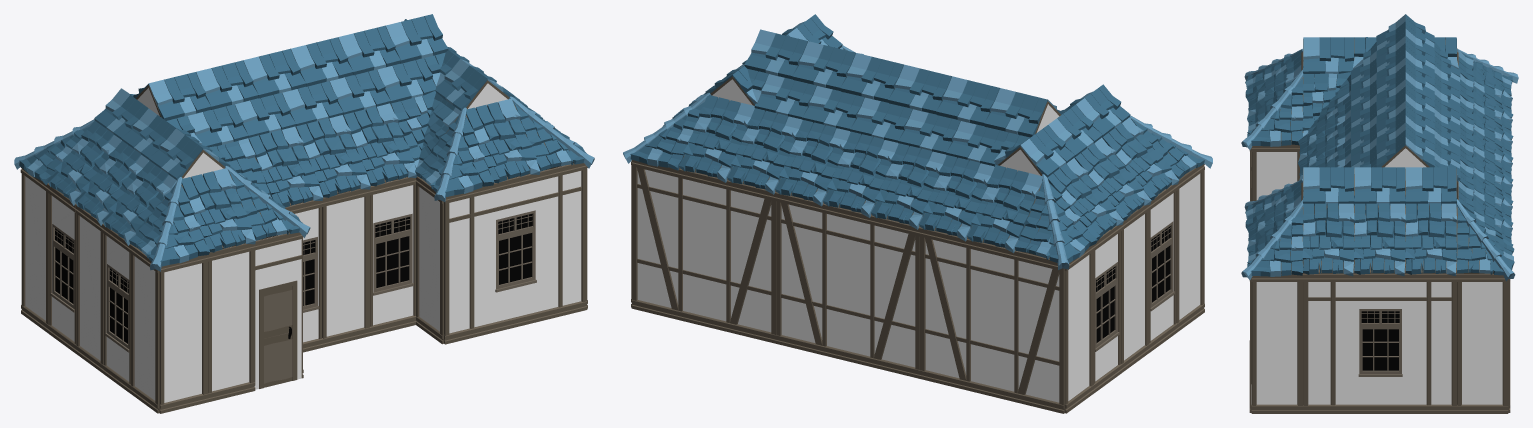
The model's file is House_09_full.glb.
The picture shows the model from 3 angles, left to right: view 1: azimuth 30°, elevation 25°; view 2: azimuth 150°, elevation 25°; view 3: azimuth 270°, elevation 25°; orthographic projection. The views are drawn at different scales.
Parts seen in each view (by area): view 1: WINDOW_03_2, WALL_03_4, WALL_03_6, WALL_03_3, DOOR_01_3, WINDOW_04_4, WALL_03_7, WALL_03_9, WINDOW_04_6, WALL_03_8, WALL_03_10, WINDOW_04_5 (+32 smaller); view 2: WALL_02_4, WALL_02_2, WALL_02_3, WALL_03_9, WALL_03_8, WALL_03_7, WINDOW_04_5, WINDOW_04_6, ROOF_base_20, ROOF_base_14, ROOF_corner_out_6, ROOF_base_15 (+26 smaller); view 3: WINDOW_03_3, WALL_03_12, WALL_03_11, ROOF_base_11, ROOF_base_12, ROOF_base_13, ROOF_corner_out_5, ROOF_corner_out_7, ROOF_corner_out_3, WALL_03_5, ROOF_inner_corner_3, ROOF_base_small_15 (+45 smaller).
Boxes of the visible parts, box(x1,y1,x2,y2) form: WINDOW_03_2: box(444, 163, 587, 344); WALL_03_4: box(159, 255, 207, 413); WALL_03_6: box(322, 188, 370, 347); WALL_03_3: box(207, 243, 255, 402); DOOR_01_3: box(254, 232, 302, 389); WINDOW_04_4: box(369, 177, 416, 335); WALL_03_7: box(130, 244, 159, 413); WALL_03_9: box(20, 167, 49, 332); WINDOW_04_6: box(48, 184, 76, 353); WALL_03_8: box(75, 204, 103, 373); WALL_03_10: box(416, 176, 443, 344); WINDOW_04_5: box(102, 224, 131, 393); WALL_02_4: box(919, 227, 1064, 413); WALL_02_2: box(631, 160, 776, 343); WALL_02_3: box(775, 192, 920, 378); WALL_03_9: box(1064, 245, 1094, 413); WALL_03_8: box(1121, 204, 1149, 372); WALL_03_7: box(1176, 164, 1204, 332); WINDOW_04_5: box(1148, 184, 1177, 352); WINDOW_04_6: box(1093, 225, 1121, 392); ROOF_base_20: box(967, 165, 1042, 253); ROOF_base_14: box(679, 95, 754, 182); ROOF_corner_out_6: box(1015, 174, 1097, 269); ROOF_base_15: box(727, 108, 802, 194); WINDOW_03_3: box(1303, 273, 1456, 413); WALL_03_12: box(1457, 273, 1508, 413); WALL_03_11: box(1251, 274, 1302, 413); ROOF_base_11: box(1302, 202, 1354, 276); ROOF_base_12: box(1354, 203, 1405, 276); ROOF_base_13: box(1405, 203, 1456, 276); ROOF_corner_out_5: box(1241, 199, 1303, 279); ROOF_corner_out_7: box(1456, 199, 1515, 281); ROOF_corner_out_3: box(1241, 69, 1303, 149); WALL_03_5: box(1251, 144, 1299, 201); ROOF_inner_corner_3: box(1302, 72, 1351, 136); ROOF_base_small_15: box(1354, 167, 1405, 205).
Size of the model in its own units: 9.41 by 5.09 by 5.41.
1 material, 1 textured.
